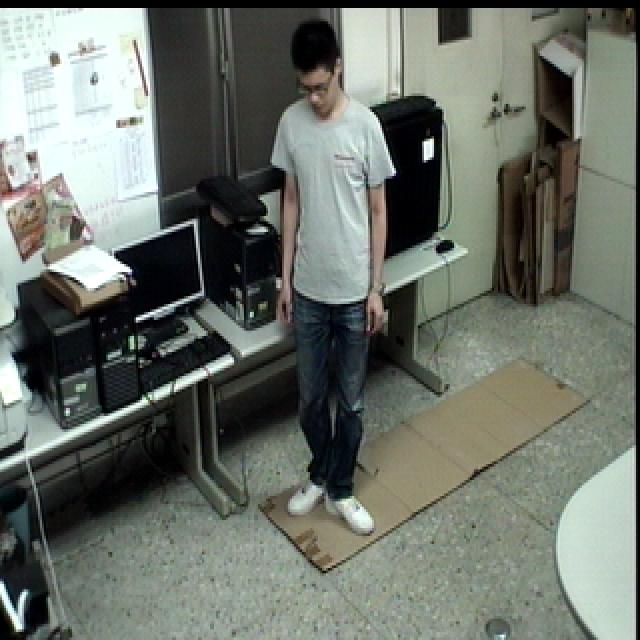stand: (263, 17, 402, 544)
